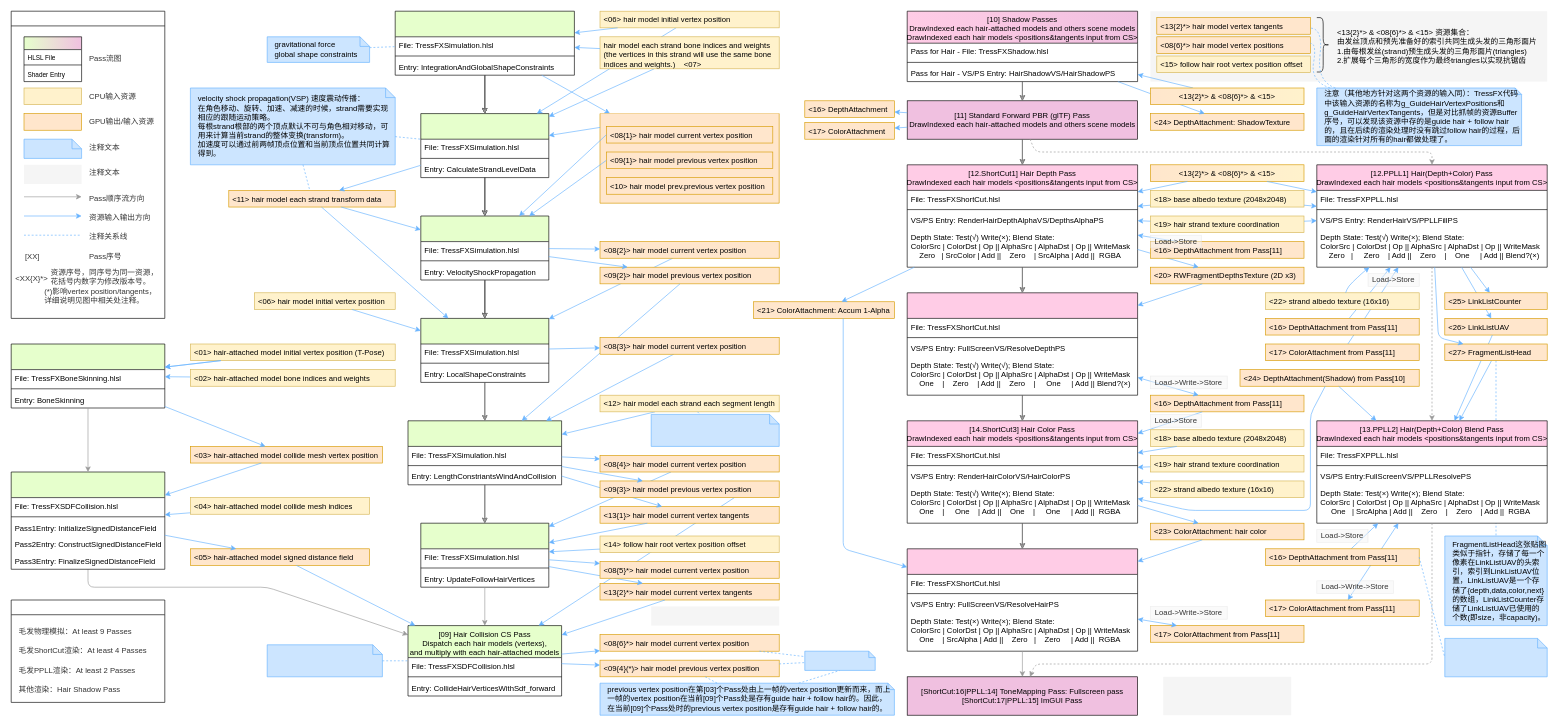
Image size: 1559x726. Some labels were removed from this diagram. The box of each missing label's shape, as (x1, y1, x2, y2) in pixels:
* 此Pass图中的输入输出资源未列出constant/uniform buffer的资源数据； * 逐Pass分析时会带上上述资源数据及相关数据的分析。: (1163, 676, 1291, 715)
[01] BoneSkin CS Pass Dispatch each hair-attached models' bones: (11, 343, 165, 408)
[02] SDF CS Passes Dispatch each hair-attached models (vertexs): (11, 471, 165, 569)
[03] Hair Physics(1) CS Pass Dispatch each hair models (vertexs): (395, 11, 574, 75)
[04] Hair Physics(2) CS Pass Dispatch each hair models (strands): (420, 113, 549, 178)
[05] Hair Physics(3) CS Pass Dispatch each hair models (vertexs): (420, 215, 549, 280)
[06] Hair Physics(4) CS Pass Dispatch each hair models (strands): (420, 318, 549, 382)
[07] Hair Physics(5) CS Pass Dispatch each hair models (vertexs): (407, 420, 562, 485)
[08] Hair Physics(6) CS Pass Dispatch each hair models (vertexs): (420, 523, 549, 587)
[13.ShortCut2] Hair Depth Blend Pass Fullscreen process: (907, 292, 1138, 395)
[15.ShortCut4] Hair Color Blend Pass Fullscreen process: (907, 548, 1138, 651)
TressFX示例中此处深度没有写入，如果后续过程需要毛发的深度，需要写入！: (1444, 638, 1547, 677)
下一帧更新使用: (804, 651, 875, 670)
图例: (11, 11, 165, 318)
快速非稳定SDF碰撞计算： CollideHairVerticesWithSdf 默认走的带_forward的Entry: (267, 644, 382, 677)
无<..*>号：guide hair 有<..*>号：guide hair + follow hair: (651, 606, 779, 625)
每根发丝的每一段，即： 每两两顶点就构成一“段”。 因此，有多少个顶点就有多少段。: (651, 414, 779, 446)
统计信息 (RenderPass): (11, 599, 165, 702)
